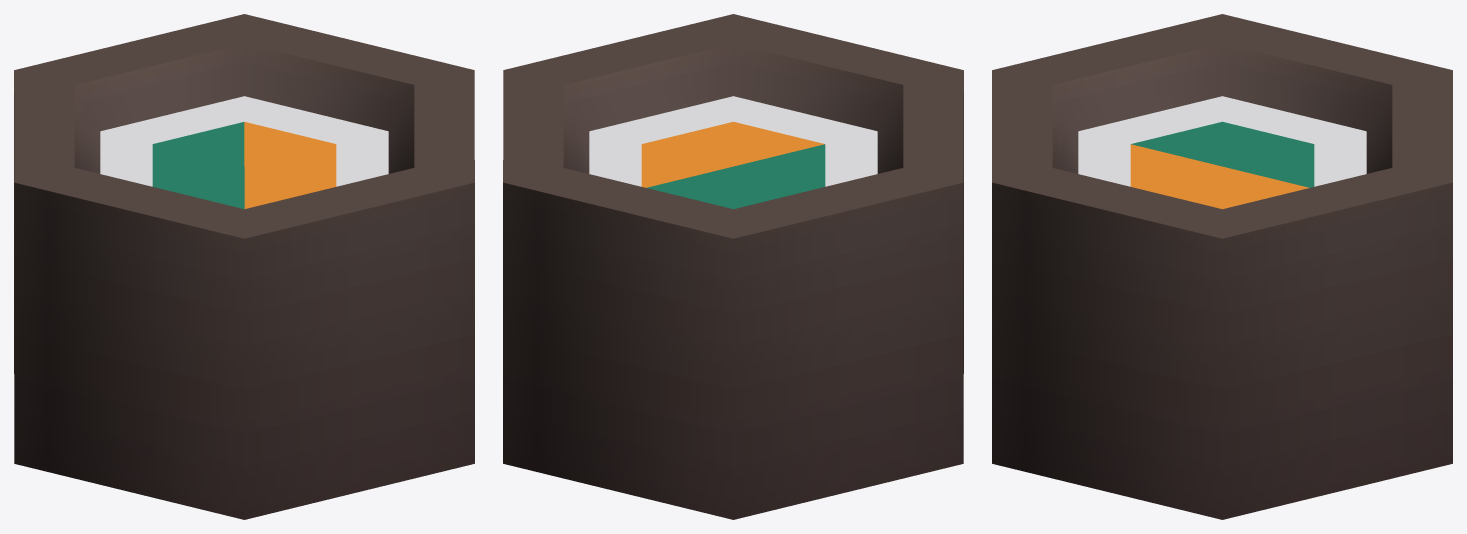
Rendered from maki-vegetable.glb.
The picture shows the model from 3 angles, left to right: view 1: azimuth 30°, elevation 25°; view 2: azimuth 150°, elevation 25°; view 3: azimuth 270°, elevation 25°; orthographic projection.
Visible parts, largest first — view 1: maki-vegetable; view 2: maki-vegetable; view 3: maki-vegetable.
Boxes of the visible parts, x1,y1,x2,y2 form: maki-vegetable: (14,14,474,519); maki-vegetable: (503,14,963,519); maki-vegetable: (992,14,1452,519).
Bounding box in the file's own units: 0.12 × 0.07 × 0.1039.
1 material, 1 textured.
